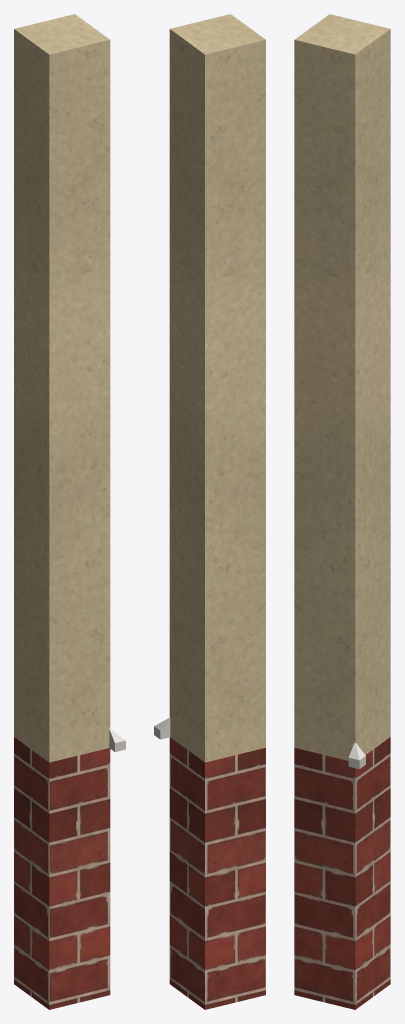
Rendered from corner.glb.
3 renders of one model, left to right at view 1: azimuth 30°, elevation 25°; view 2: azimuth 210°, elevation 25°; view 3: azimuth 330°, elevation 25°, orthographic.
Visible parts, largest first — view 1: corner_render, corner_brick, corner_cill; view 2: corner_render, corner_brick, corner_cill; view 3: corner_render, corner_brick, corner_cill.
Boxes of the visible parts, x1,y1,x2,y2 form: corner_render: [14, 14, 110, 762]; corner_brick: [14, 737, 110, 1009]; corner_cill: [109, 728, 125, 751]; corner_render: [169, 14, 265, 762]; corner_brick: [169, 737, 265, 1009]; corner_cill: [154, 717, 170, 739]; corner_render: [294, 14, 390, 760]; corner_brick: [294, 737, 390, 1009]; corner_cill: [348, 743, 365, 768].
Bounding box in the file's own units: 0.291 × 3.75 × 0.291.
3 materials, 2 textured.
